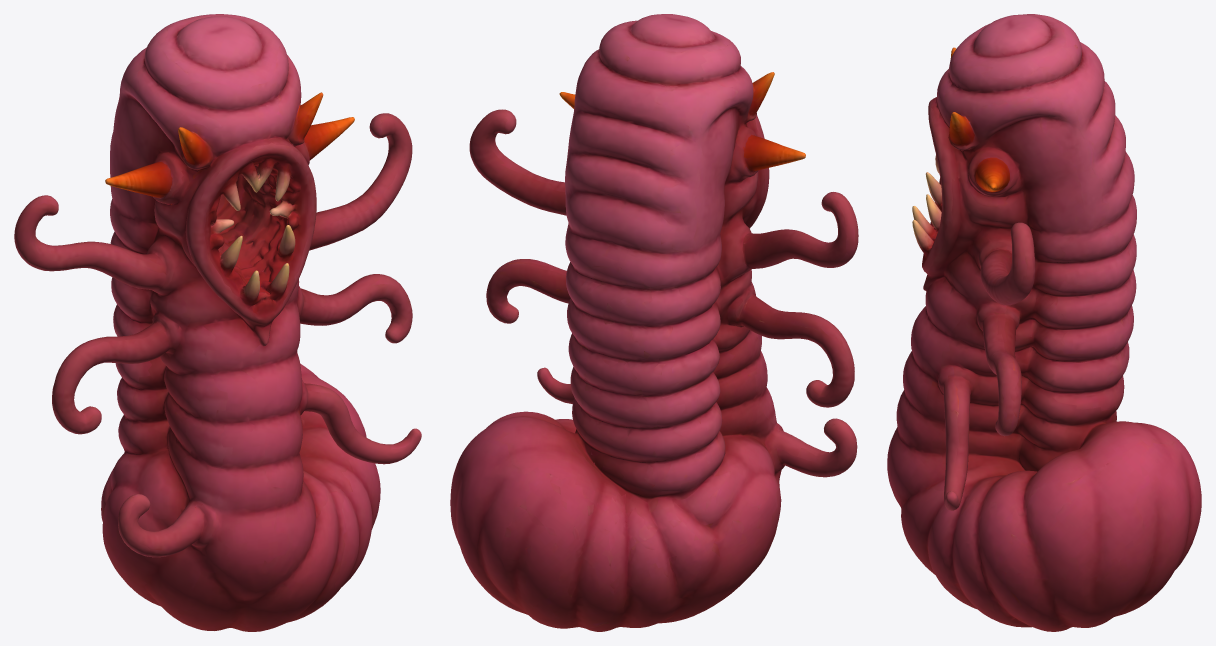
The model's file is SARGF1_2026-08-27T104307.152.glb.
3 renders of one model, left to right at view 1: azimuth 30°, elevation 25°; view 2: azimuth 150°, elevation 25°; view 3: azimuth 270°, elevation 25°, orthographic. The views are drawn at different scales.
Parts seen in each view (by area): view 1: world; view 2: world; view 3: world.
Part boxes in pixels (left/top/right/bottom): world: left=14, top=14, right=421, bottom=631; world: left=450, top=14, right=858, bottom=631; world: left=887, top=14, right=1201, bottom=631.
Size of the model in its own units: 0.6825 by 1 by 0.5021.
Materials: 1 (1 with a texture image).
